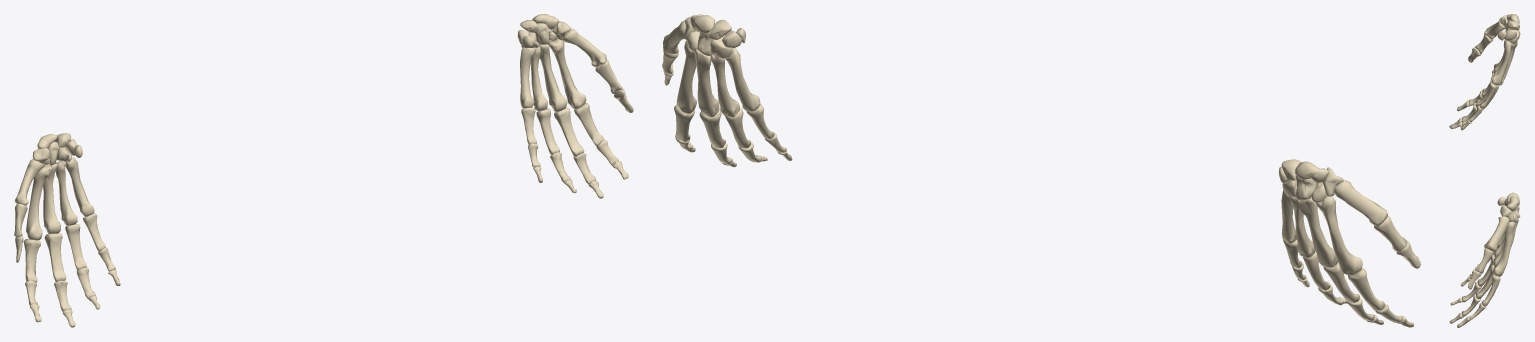
The model's file is ossos-da-mao.glb.
3 views of the same model, side by side, from view 1: azimuth 30°, elevation 25°; view 2: azimuth 150°, elevation 25°; view 3: azimuth 270°, elevation 25° (orthographic). The views are drawn at different scales.
Parts seen in each view (by area): view 1: Second metacarpal bone.r, Second metacarpal bone.l, Third metacarpal bone.l, Third metacarpal bone.r, Fifth metacarpal bone.l, Fifth metacarpal bone.r, Fourth metacarpal bone.r, Proximal phalanx of third finger of hand.r, First metacarpal bone.l, Fourth metacarpal bone.l, Proximal phalanx of third finger of hand.l, Proximal phalanx of second finger of hand.r (+4 smaller); view 2: Second metacarpal bone.r, Third metacarpal bone.r, First metacarpal bone.r, Third metacarpal bone.l, Second metacarpal bone.l, Fifth metacarpal bone.l, Fourth metacarpal bone.l, Fourth metacarpal bone.r, Proximal phalanx of second finger of hand.r, Fifth metacarpal bone.r, Proximal phalanx of third finger of hand.r; view 3: Second metacarpal bone.l, First metacarpal bone.l, Fifth metacarpal bone.r, Proximal phalanx of second finger of hand.l, First metacarpal bone.r, Proximal phalanx of third finger of hand.l, Proximal phalanx of first finger of hand.l, Proximal phalanx of fourth finger of hand.l, Proximal phalanx of fifth finger of hand.r, Proximal phalanx of first finger of hand.r, Third metacarpal bone.l, Trapezium bone.l (+23 smaller).
Boxes of the visible parts, left/top/right/bottom form: Second metacarpal bone.r: left=26, top=164, right=51, bottom=240; Second metacarpal bone.l: left=548, top=38, right=586, bottom=109; Third metacarpal bone.l: left=539, top=44, right=567, bottom=111; Third metacarpal bone.r: left=43, top=163, right=60, bottom=233; Fifth metacarpal bone.l: left=520, top=47, right=534, bottom=108; Fifth metacarpal bone.r: left=65, top=157, right=94, bottom=216; Fourth metacarpal bone.r: left=55, top=161, right=77, bottom=225; Proximal phalanx of third finger of hand.r: left=44, top=233, right=66, bottom=281; First metacarpal bone.l: left=562, top=28, right=606, bottom=66; Fourth metacarpal bone.l: left=530, top=46, right=547, bottom=111; Proximal phalanx of third finger of hand.l: left=554, top=107, right=584, bottom=156; Proximal phalanx of second finger of hand.r: left=23, top=239, right=40, bottom=282; Second metacarpal bone.r: left=1316, top=195, right=1362, bottom=275; Third metacarpal bone.r: left=1298, top=197, right=1337, bottom=267; First metacarpal bone.r: left=1334, top=180, right=1387, bottom=226; Third metacarpal bone.l: left=694, top=49, right=719, bottom=117; Second metacarpal bone.l: left=676, top=40, right=696, bottom=113; Fifth metacarpal bone.l: left=725, top=47, right=760, bottom=111; Fourth metacarpal bone.l: left=711, top=54, right=739, bottom=117; Fourth metacarpal bone.r: left=1289, top=197, right=1315, bottom=257; Proximal phalanx of second finger of hand.r: left=1348, top=268, right=1384, bottom=310; Fifth metacarpal bone.r: left=1281, top=190, right=1296, bottom=243; Proximal phalanx of third finger of hand.r: left=1323, top=262, right=1359, bottom=302; Second metacarpal bone.l: left=1493, top=221, right=1514, bottom=276; First metacarpal bone.l: left=1484, top=216, right=1509, bottom=251; Fifth metacarpal bone.r: left=1492, top=40, right=1512, bottom=85; Proximal phalanx of second finger of hand.l: left=1481, top=274, right=1500, bottom=306; First metacarpal bone.r: left=1484, top=18, right=1505, bottom=39; Proximal phalanx of third finger of hand.l: left=1475, top=264, right=1494, bottom=298; Proximal phalanx of first finger of hand.l: left=1475, top=248, right=1493, bottom=273; Proximal phalanx of fourth finger of hand.l: left=1477, top=254, right=1494, bottom=286; Proximal phalanx of fifth finger of hand.r: left=1479, top=82, right=1496, bottom=108; Proximal phalanx of first finger of hand.r: left=1475, top=34, right=1493, bottom=53; Third metacarpal bone.l: left=1493, top=219, right=1518, bottom=266; Trapezium bone.l: left=1500, top=205, right=1514, bottom=222.
Bounding box in the file's own units: 0.6692 × 0.164 × 0.0881.
